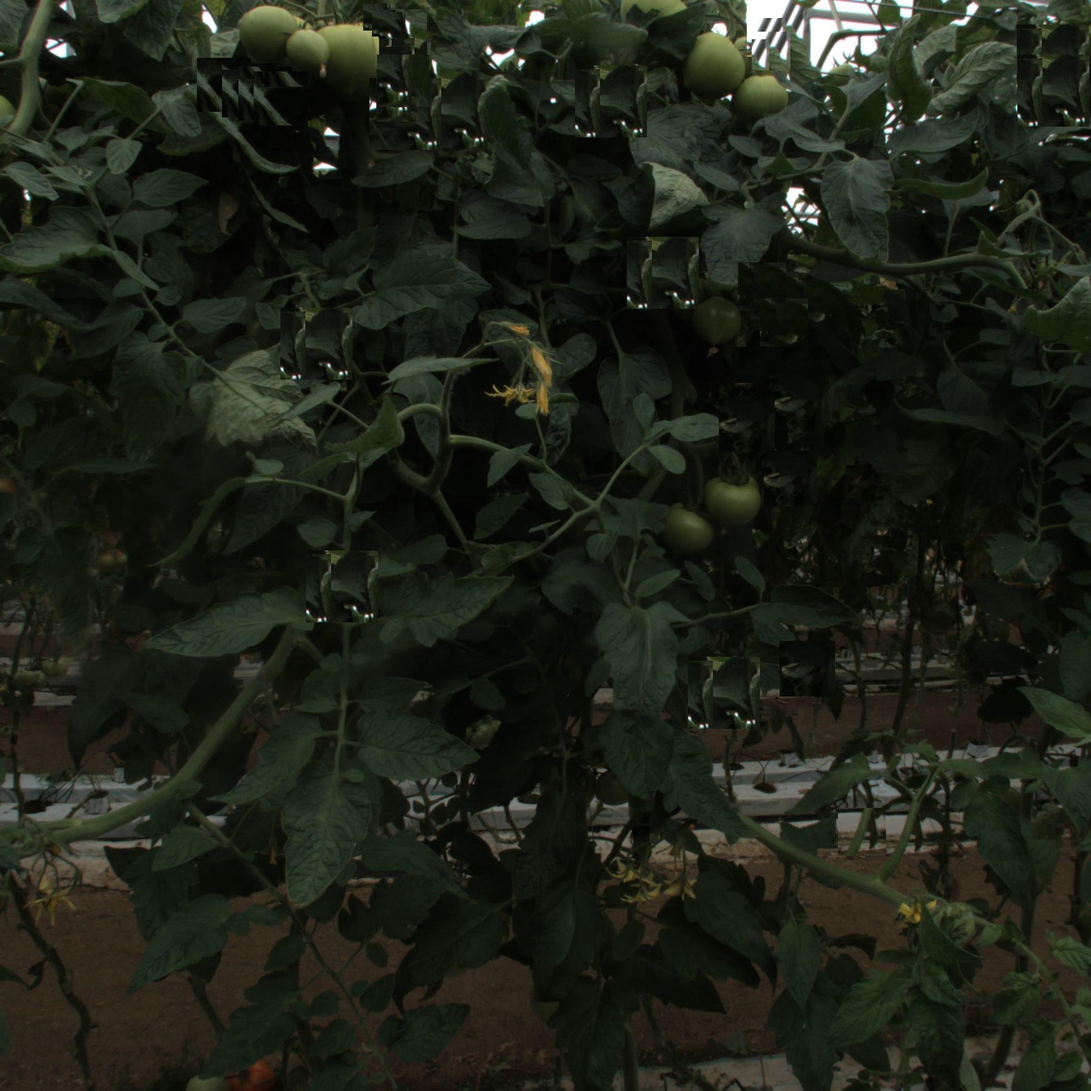unripe: (312, 20, 377, 85), (238, 3, 299, 64), (685, 292, 745, 352), (707, 470, 762, 524), (686, 35, 740, 90), (659, 503, 711, 556), (285, 29, 331, 75), (741, 76, 786, 121)
